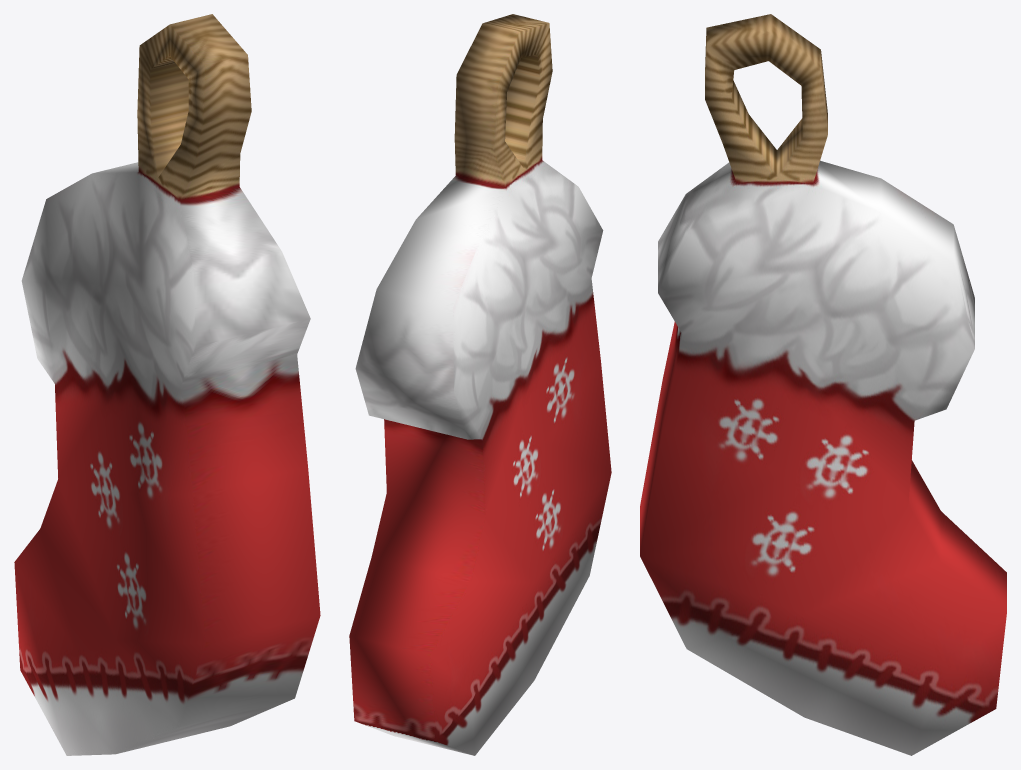
Rendered from final socks.fbx.
The picture shows the model from 3 angles, left to right: view 1: azimuth 30°, elevation 25°; view 2: azimuth 150°, elevation 25°; view 3: azimuth 270°, elevation 25°; orthographic projection. The views are drawn at different scales.
Parts seen in each view (by area): view 1: socks; view 2: socks; view 3: socks.
Boxes of the visible parts, left/top/right/bottom form: socks: left=14, top=14, right=320, bottom=755; socks: left=349, top=14, right=611, bottom=755; socks: left=640, top=14, right=1006, bottom=755.
Bounding box in the file's own units: 0.9384 × 6.1 × 2.85.
